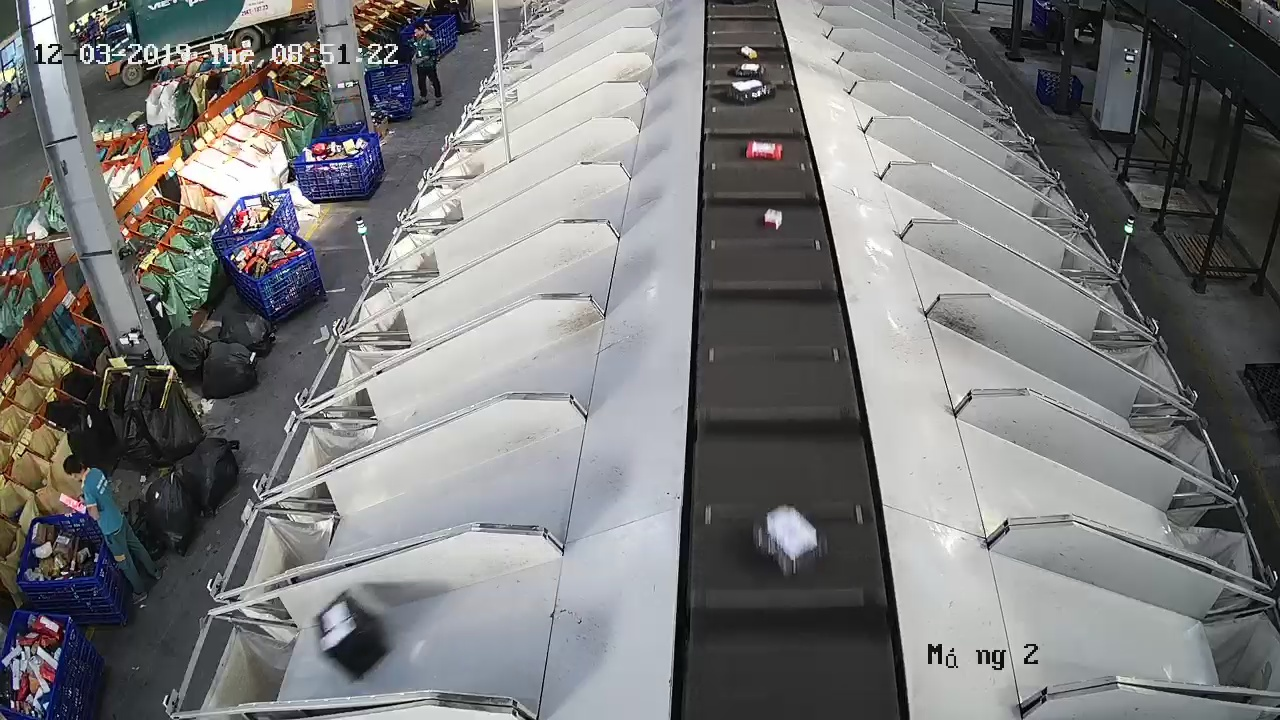parcel: (314, 591, 389, 680)
